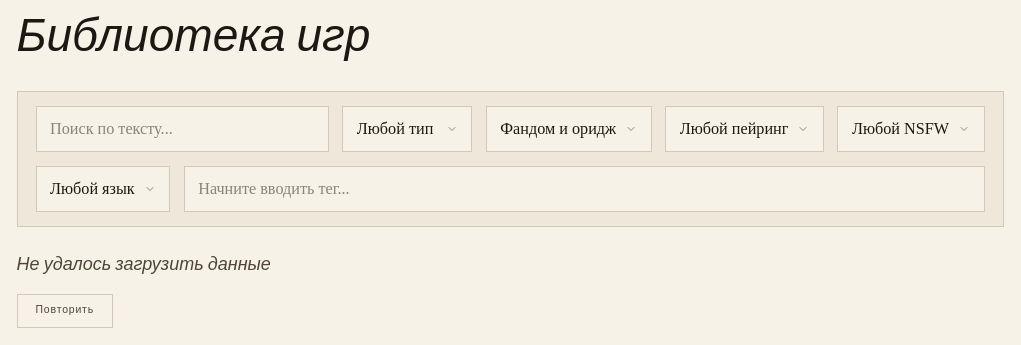
Test: LibraryClient error state (HIGH-U1 regression) › shows error message and Retry button on fetch failure, recovers on retry
This screenshot has width=1021, height=345.
Expected: the message "Не удалось загрузить данные Повторить" is shown, [16, 253, 271, 328]
Click the button "Повторить". click: (65, 311)
box: [16, 294, 113, 328]
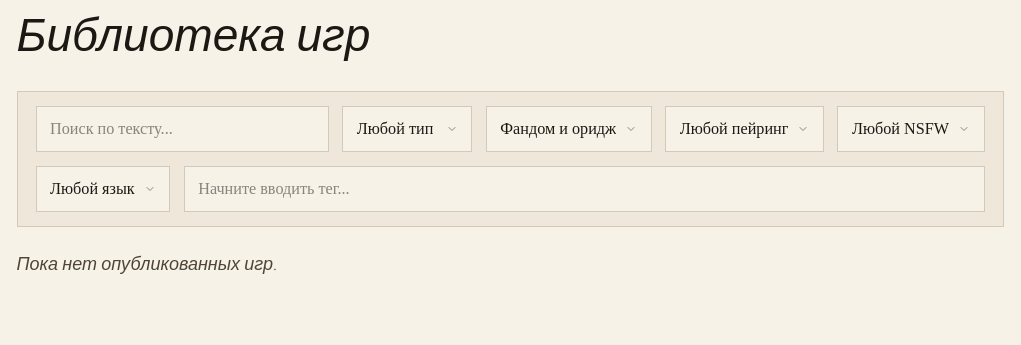
Expected: the message "Не удалось загрузить данные Повторить" is gone
